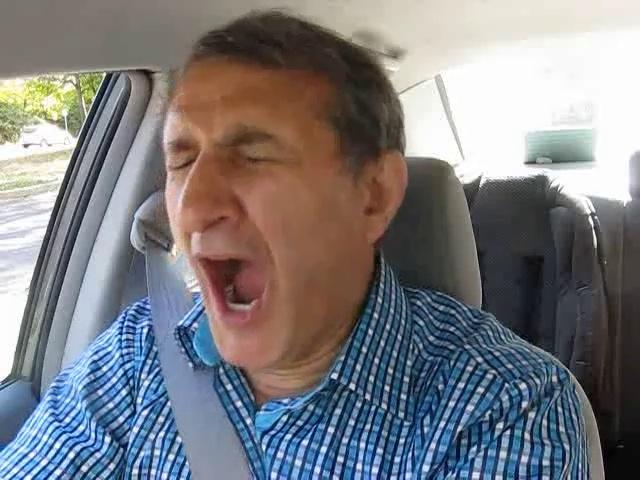close_eyeL: (152, 138, 209, 181)
close_eyeR: (219, 140, 296, 181)
yawn: (177, 242, 291, 333)
